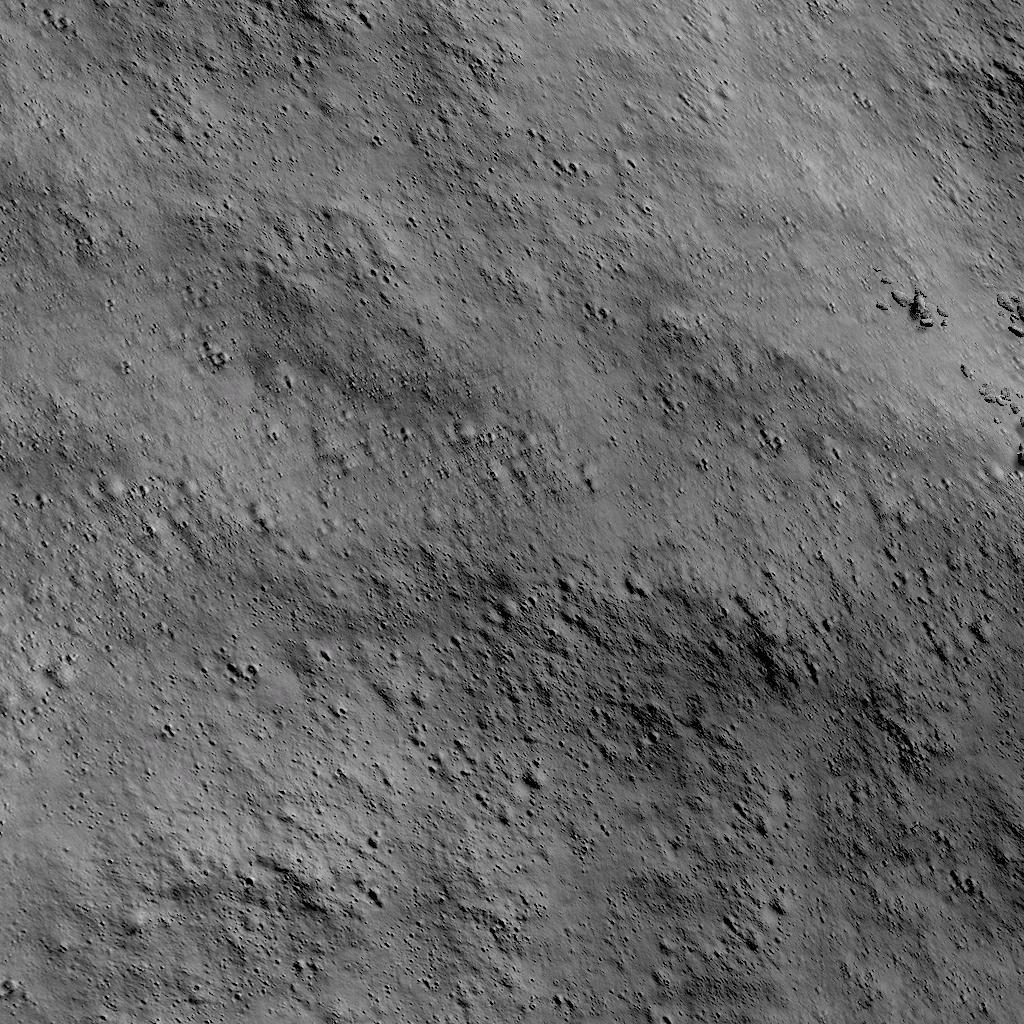Plan surface: (0, 0, 869, 1024)
